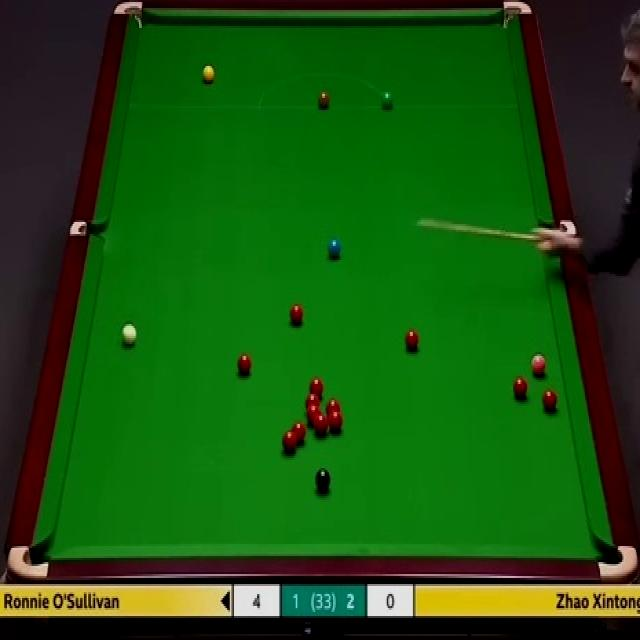black-ball: (314, 468, 331, 490)
blue-ball: (327, 238, 342, 260)
brown-ball: (316, 90, 329, 110)
green-ball: (380, 92, 394, 110)
pink-ball: (530, 354, 548, 377)
red-ball: (541, 388, 558, 411), (513, 374, 528, 400), (283, 428, 298, 454), (289, 302, 304, 326), (236, 352, 252, 374), (291, 421, 306, 444), (329, 409, 343, 433), (404, 328, 419, 350), (309, 376, 323, 398), (314, 414, 328, 436), (304, 393, 320, 411), (307, 405, 320, 425), (326, 397, 342, 413)
white-ball: (121, 323, 137, 348)
yellow-ball: (202, 65, 214, 86)
